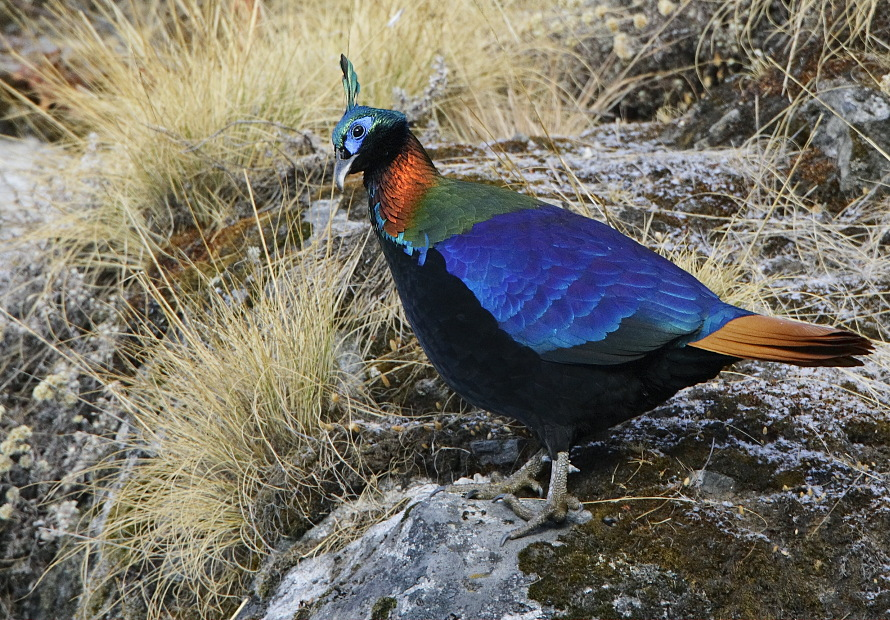bird: (325, 52, 870, 541)
